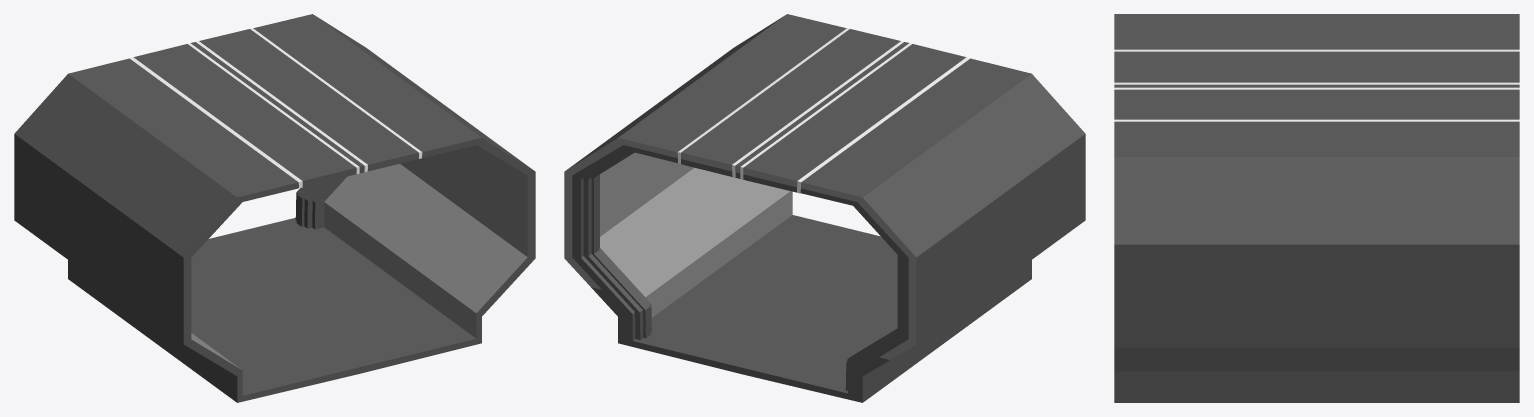
Rendered from InteriorWalls.fbx.
3 views of the same model, side by side, from view 1: azimuth 30°, elevation 25°; view 2: azimuth 150°, elevation 25°; view 3: azimuth 270°, elevation 25° (orthographic). The views are drawn at different scales.
Visible parts, largest first — view 1: Walls; view 2: Walls; view 3: Walls.
Boxes of the visible parts, x1,y1,x2,y2 form: Walls: (14, 14, 535, 402); Walls: (564, 14, 1085, 402); Walls: (1114, 14, 1519, 402).
Bounding box in the file's own units: 1483 × 834 × 1235.
